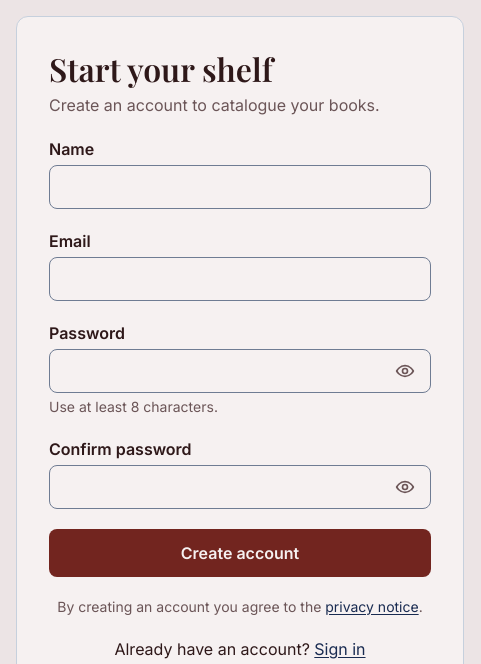
Test: RegisterForm › puts a taken email under the email field with a way to sign in
The image size is (481, 664).
In the field labelled "Name": [240, 187] box [49,165,431,209], type "Alice"
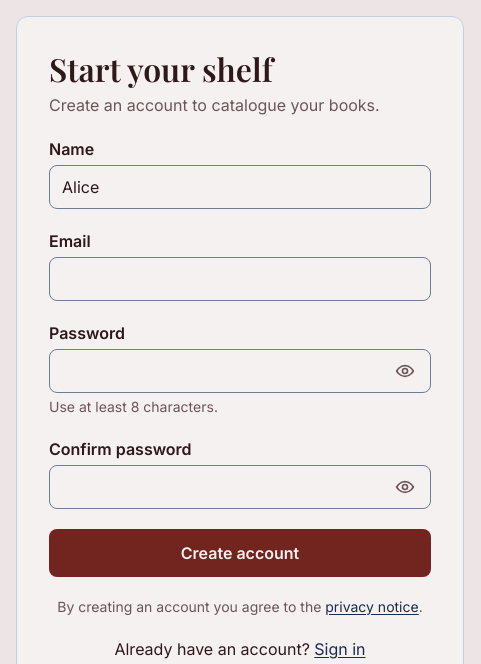
In the field labelled "Email": [240, 279] box [49,257,431,301], type "alice@example.com"
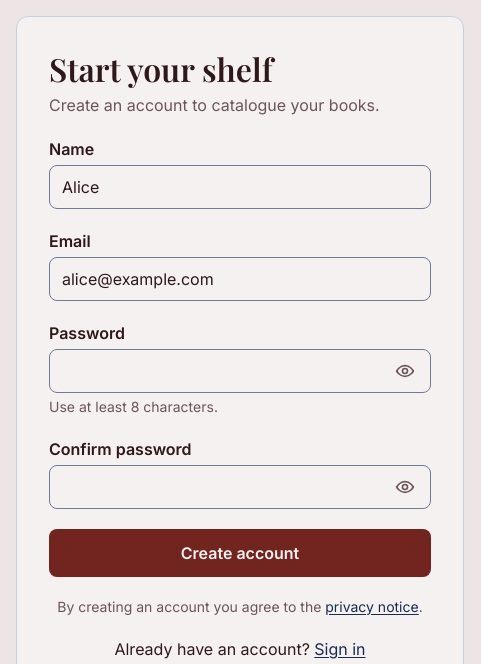
In the password field labelled "Password": [240, 371] box [49,349,431,393], type "secret123"
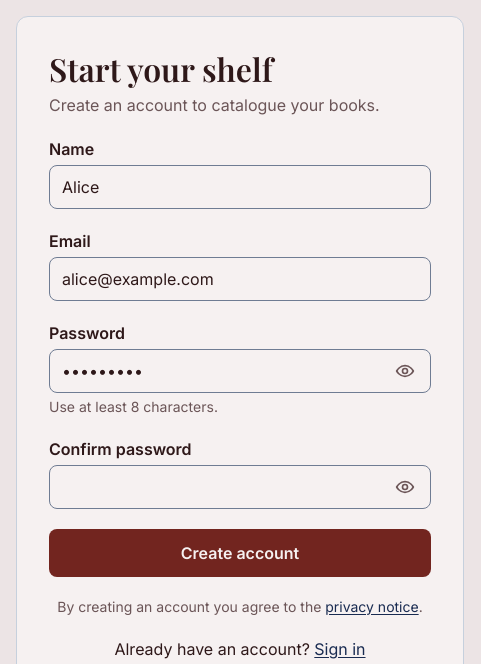
In the password field labelled "Confirm password": [240, 487] box [49,465,431,509], type "secret123"
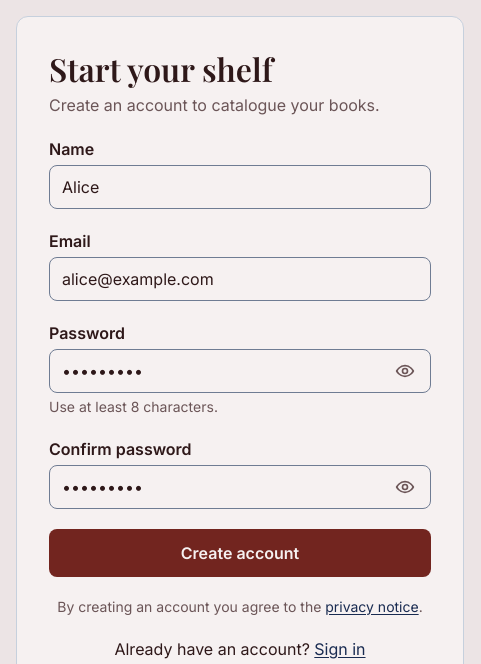
Click the button "Create account": [240, 553] box [49,529,431,577]
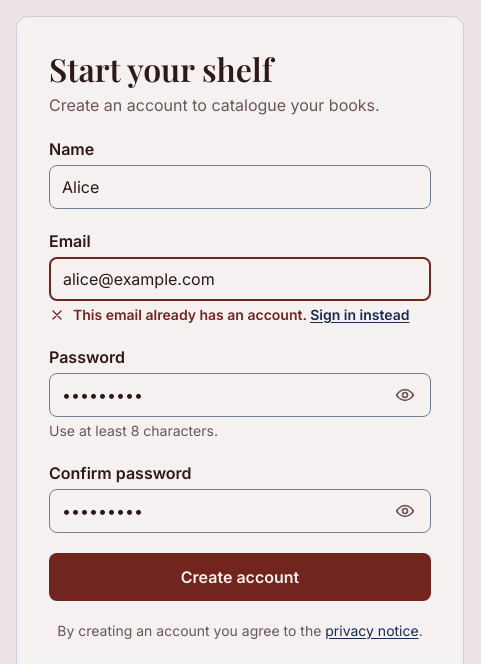
Expected: the text "This email already has an account. Sign in instead" is shown, [73,305,409,325]
